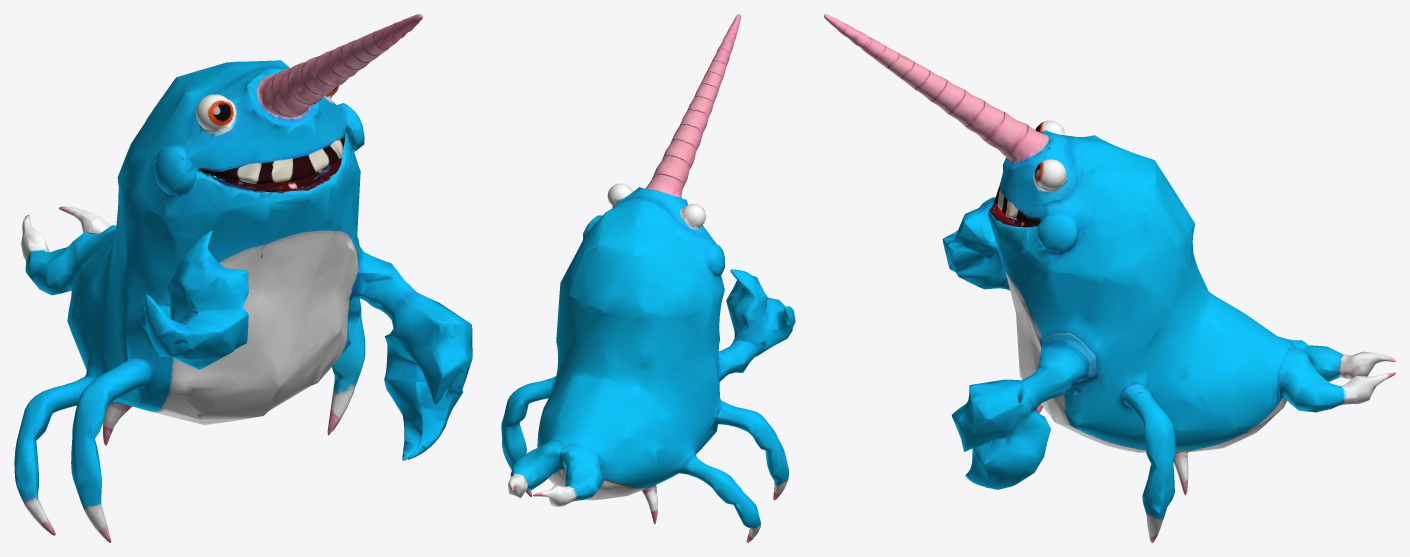
Rendered from narwhal-crab-14595.glb.
3 views of the same model, side by side, from view 1: azimuth 30°, elevation 25°; view 2: azimuth 150°, elevation 25°; view 3: azimuth 270°, elevation 25° (orthographic). The views are drawn at different scales.
Size of the model in its own units: 1.16 by 1.82 by 1.91.
Materials: 1 (1 with a texture image).
